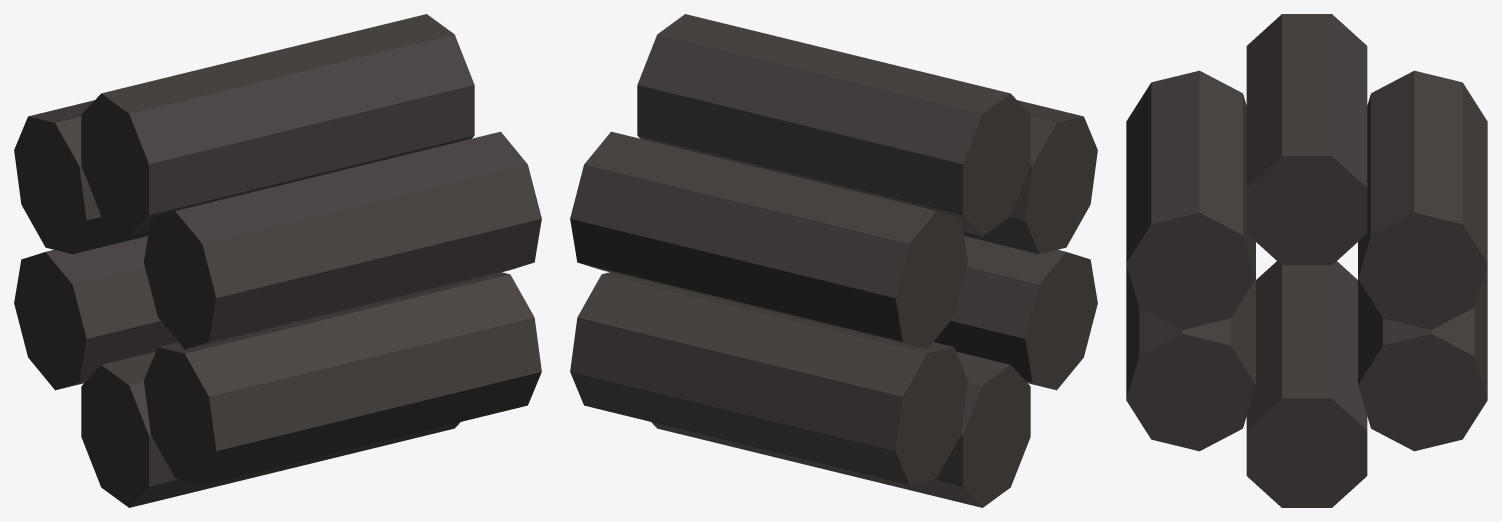
Rendered from HeavyWeapon1_04_2.fbx.
3 views of the same model, side by side, from view 1: azimuth 30°, elevation 25°; view 2: azimuth 150°, elevation 25°; view 3: azimuth 270°, elevation 25° (orthographic). The views are drawn at different scales.
Parts seen in each view (by area): view 1: HeavyWeapon1_04_2; view 2: HeavyWeapon1_04_2; view 3: HeavyWeapon1_04_2.
Part boxes in pixels (<box>): HeavyWeapon1_04_2: <box>14,14,541,507</box>; HeavyWeapon1_04_2: <box>570,14,1097,507</box>; HeavyWeapon1_04_2: <box>1126,14,1487,507</box>.
Bounding box in the file's own units: 0.129 × 0.1491 × 0.1388.
